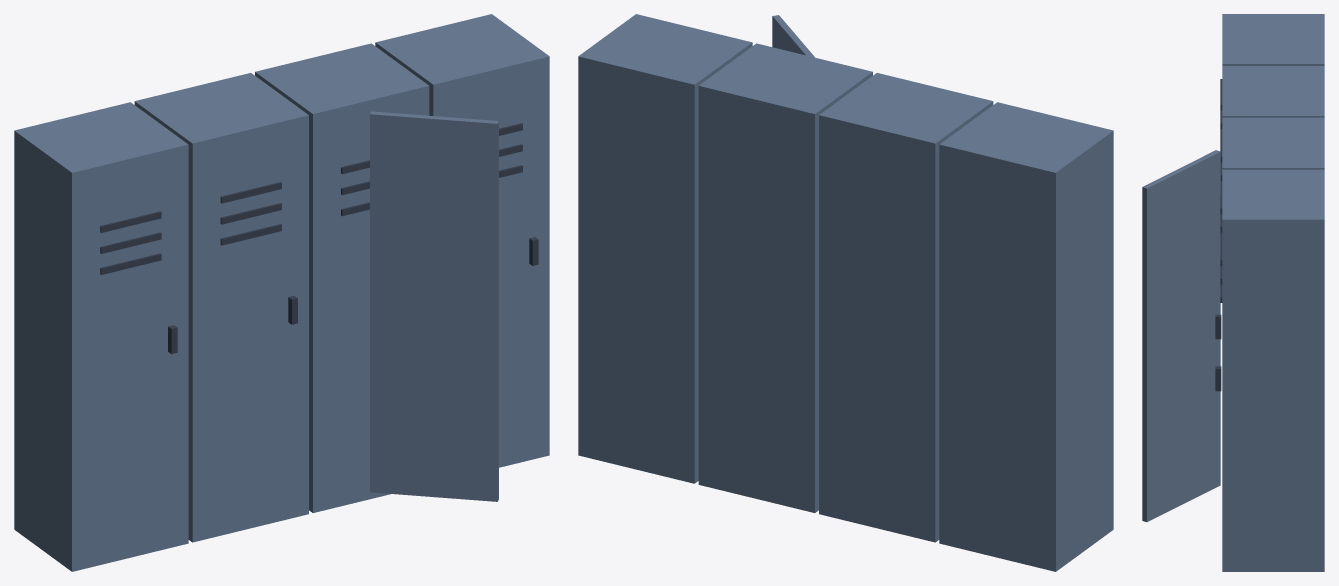
Rendered from station_lockers.glb.
3 renders of one model, left to right at view 1: azimuth 30°, elevation 25°; view 2: azimuth 150°, elevation 25°; view 3: azimuth 270°, elevation 25°, orthographic. The views are drawn at different scales.
Parts seen in each view (by area): view 1: lockers_locker, ajar_locker, vents_locker_dark, handles_locker_dark; view 2: lockers_locker, ajar_locker; view 3: lockers_locker, ajar_locker, vents_locker_dark, handles_locker_dark.
Boxes of the visible parts, left/top/right/bottom form: lockers_locker: left=14, top=14, right=549, bottom=571; ajar_locker: left=370, top=111, right=498, bottom=501; vents_locker_dark: left=100, top=123, right=522, bottom=274; handles_locker_dark: left=168, top=237, right=538, bottom=354; lockers_locker: left=578, top=14, right=1113, bottom=571; ajar_locker: left=772, top=15, right=814, bottom=57; lockers_locker: left=1222, top=14, right=1324, bottom=571; ajar_locker: left=1142, top=150, right=1220, bottom=522; vents_locker_dark: left=1220, top=79, right=1222, bottom=302; handles_locker_dark: left=1215, top=314, right=1221, bottom=391.
Bounding box in the file's own units: 2.38 × 1.9 × 0.8919.
